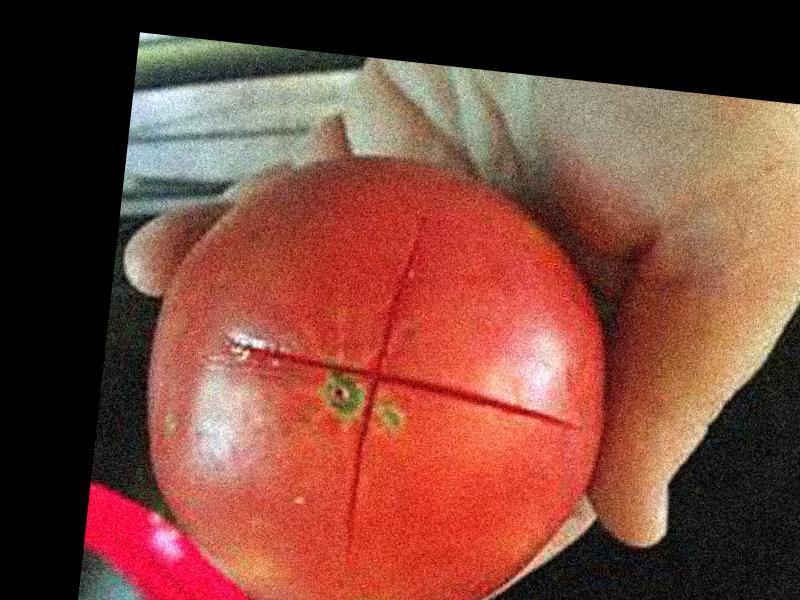Tomato: (119, 132, 632, 600)
